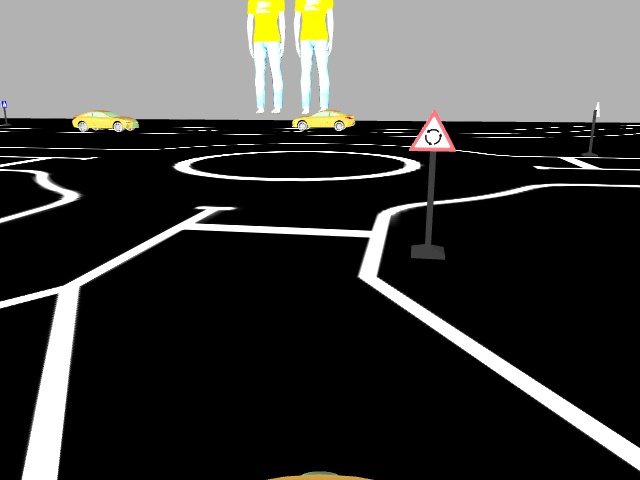Roundabout: (408, 108, 458, 152)
